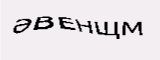Б: (91, 5, 114, 33)
Г: (78, 8, 97, 40)
Ф: (38, 16, 57, 46)
Х: (58, 20, 72, 42)
Ч: (69, 13, 83, 39)
